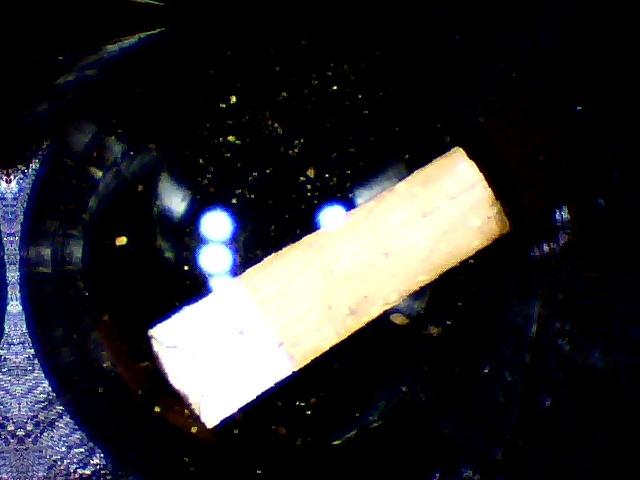megot: (133, 135, 526, 447)
